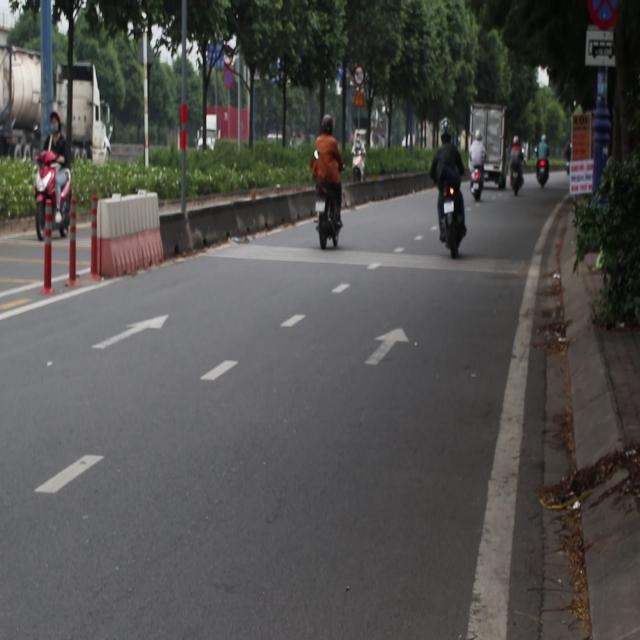motorbike: (30, 168, 81, 226), (314, 185, 346, 260), (433, 193, 466, 250), (347, 148, 376, 198), (470, 168, 493, 208), (509, 163, 527, 200), (535, 165, 555, 196)
truck: (0, 60, 119, 154), (458, 91, 512, 183), (194, 90, 263, 162)
